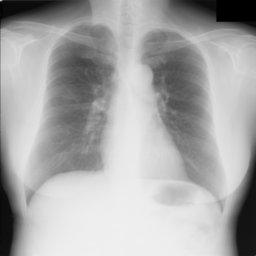left lobe: (143, 30, 226, 200)
right lobe: (28, 24, 117, 198)
